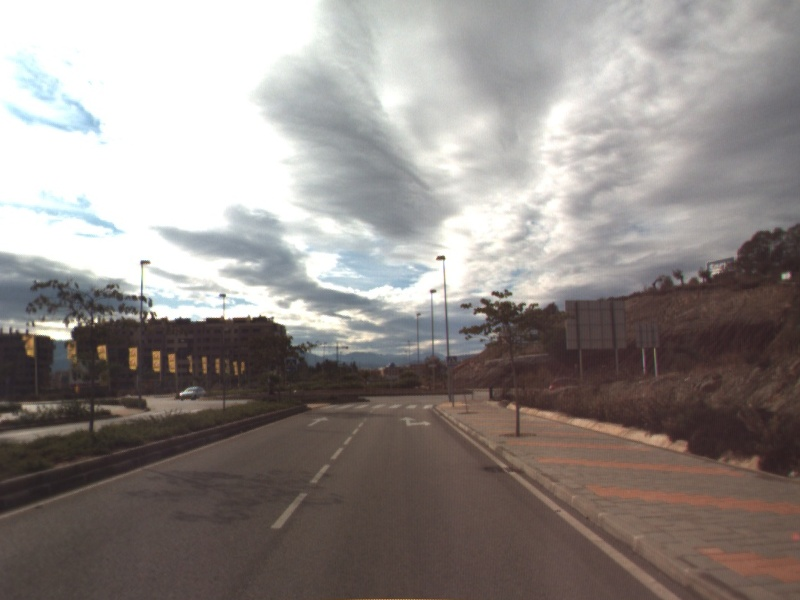STRAIGHT: (305, 415, 330, 428)
STRAIGHT_RIGHT: (398, 415, 433, 428)
